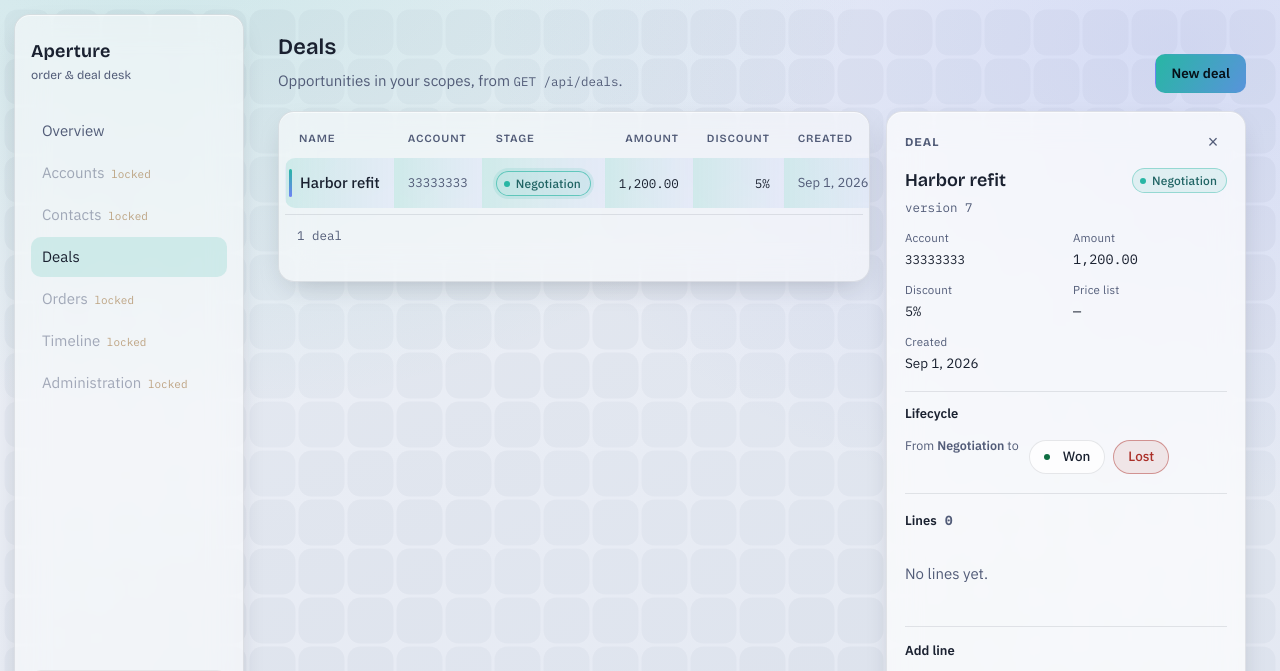
Test: Deal lifecycle — the server is the authority › Given the server refuses a lost move (422), when it answers, then its message is surfaced
Click the button "Lost" at point(1141, 457), box [1113,440,1169,474]
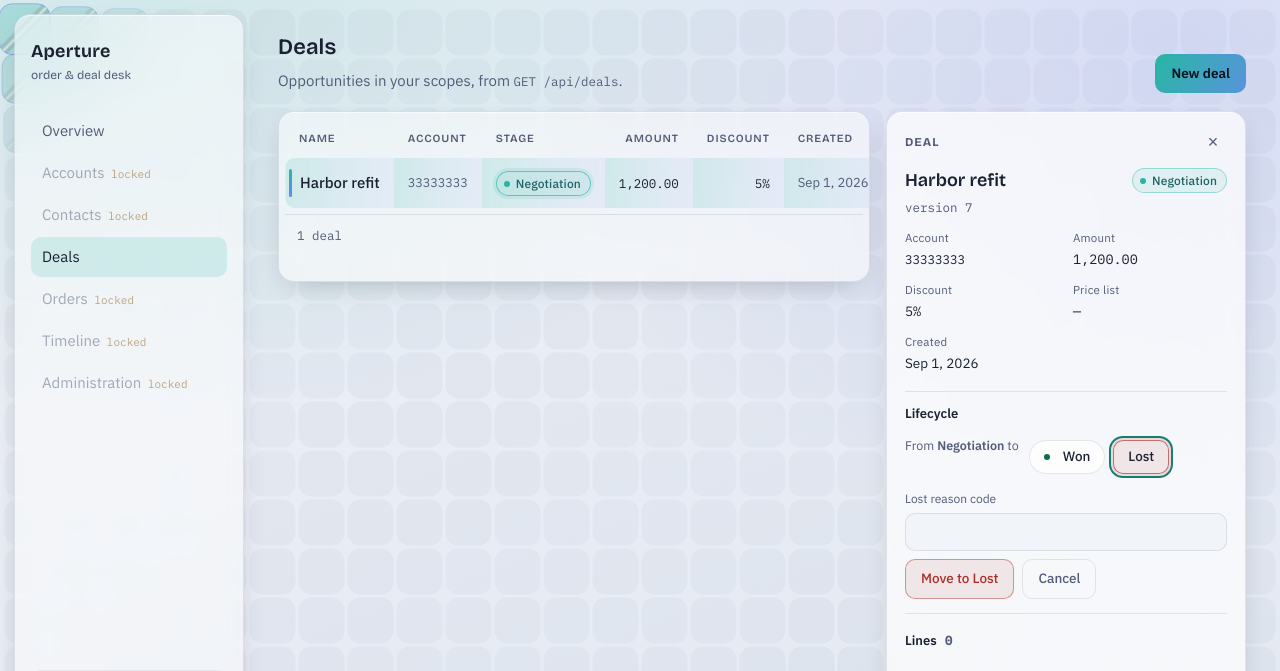
Type "price" into the field labelled "Lost reason code" at point(1066, 532), box [905,513,1227,551]
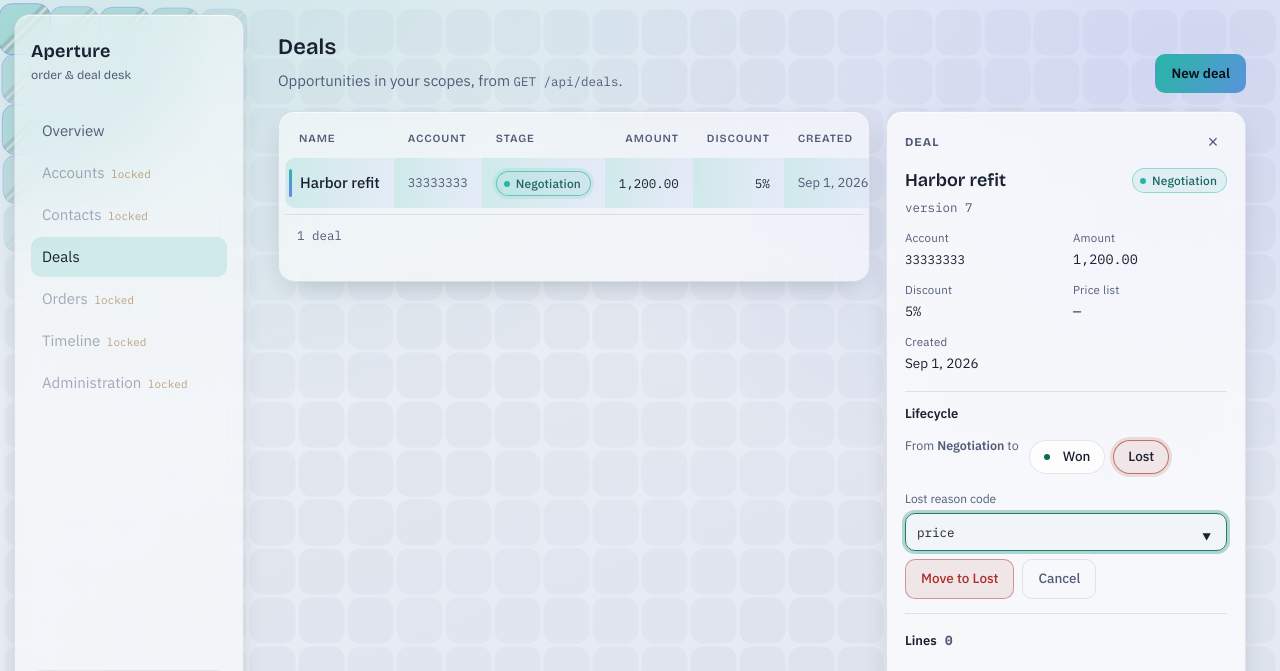
Click the button "Move to Lost" at point(960, 579), box [905,559,1014,598]
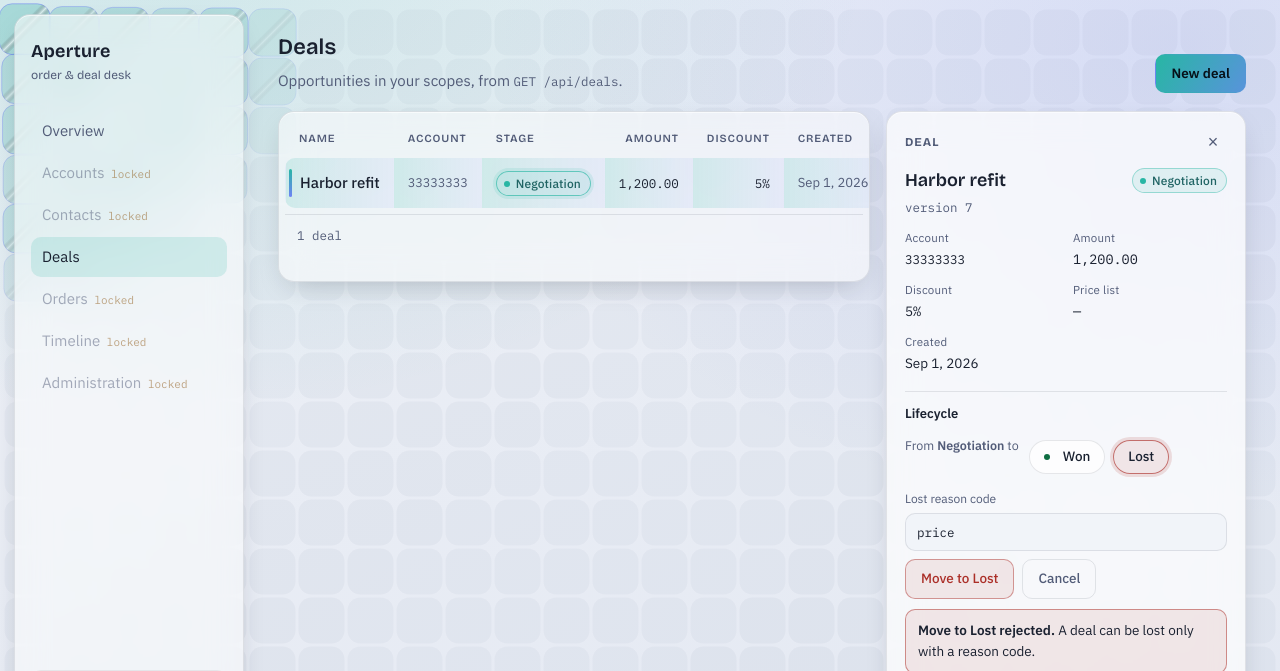
Expected: the message with test id "lifecycle-failure" shows "A deal can be lost only with a reason code.", [918,620,1194,660]
